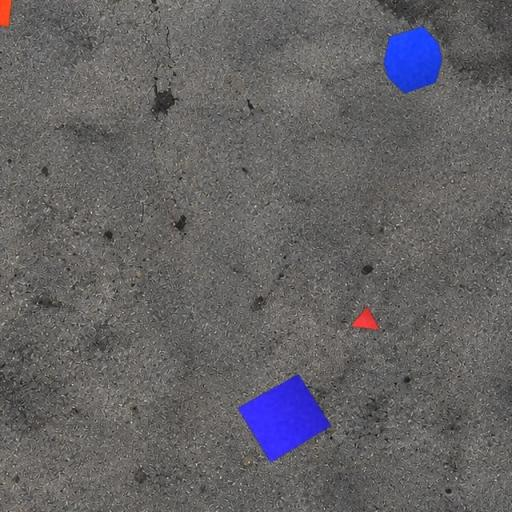BLUE_SQUARE: (237, 373, 332, 463)
